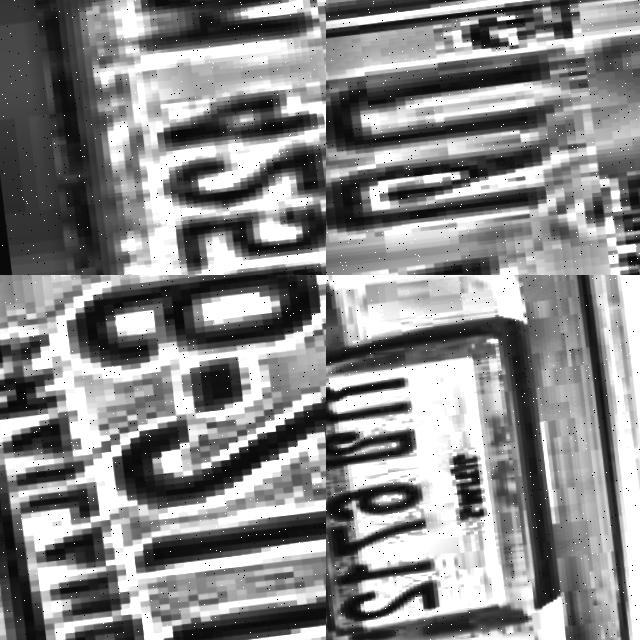license-plate: (0, 275, 326, 640), (326, 0, 640, 275), (24, 0, 326, 275), (326, 314, 579, 640)
